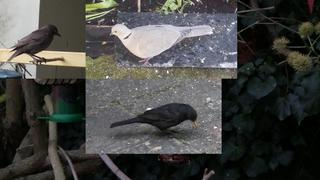blackbird: (110, 103, 198, 137)
collared dove: (110, 24, 213, 65)
starling: (7, 24, 62, 65)
